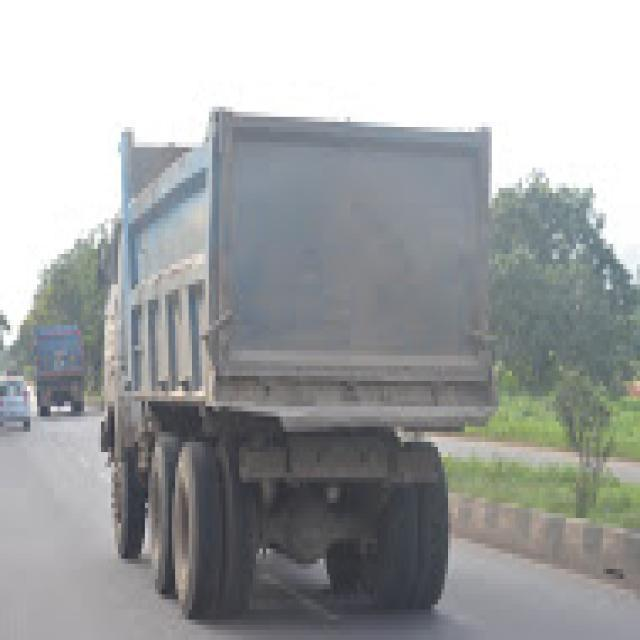car_back: (0, 370, 38, 436)
truck_back: (95, 90, 495, 638), (30, 317, 90, 417)
